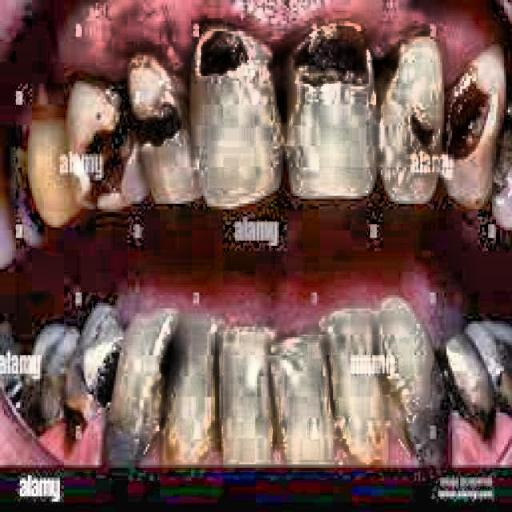Caries: (263, 14, 504, 162), (367, 288, 512, 474), (60, 34, 226, 194), (35, 302, 187, 464)
